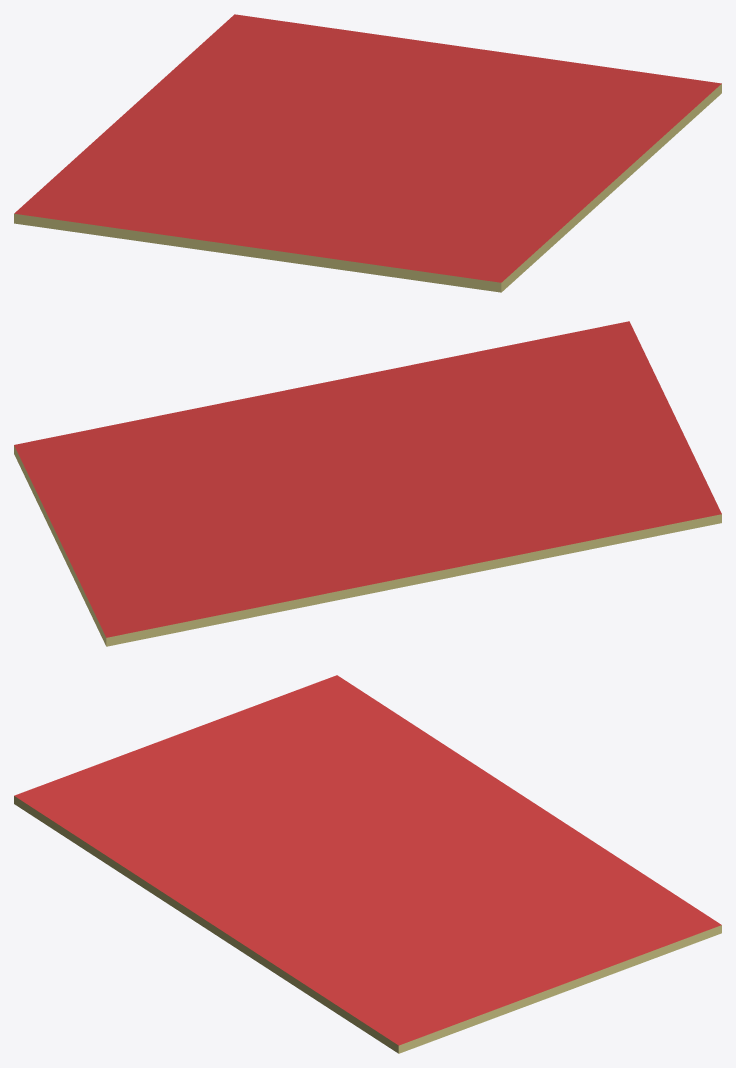
The picture shows the model from 3 angles, top to bottom: view 1: azimuth 30°, elevation 25°; view 2: azimuth 150°, elevation 25°; view 3: azimuth 270°, elevation 25°; orthographic projection. The views are drawn at different scales.
Bounding box in the file's own units: 7.91 × 7.77 × 0.896.
